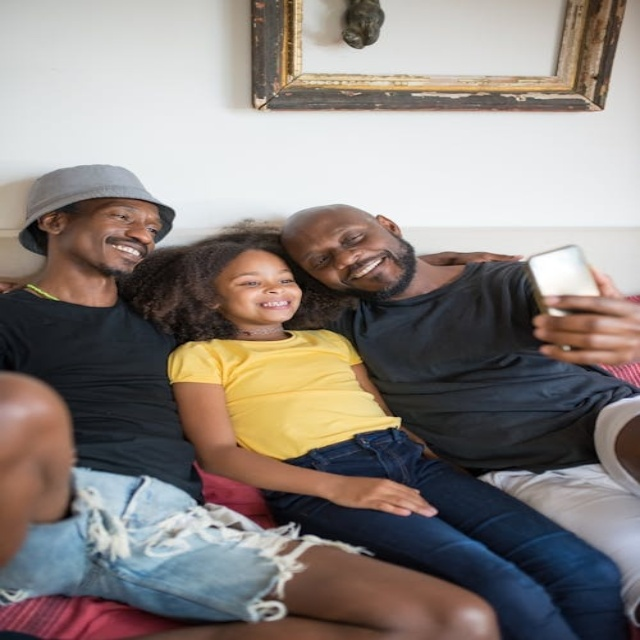Sin_gafas: (307, 224, 371, 271), (96, 201, 165, 236), (228, 267, 300, 291)
Sin_guantes: (531, 286, 640, 367)
Sin_mascara: (344, 249, 397, 294), (105, 236, 147, 270), (247, 295, 297, 318)
